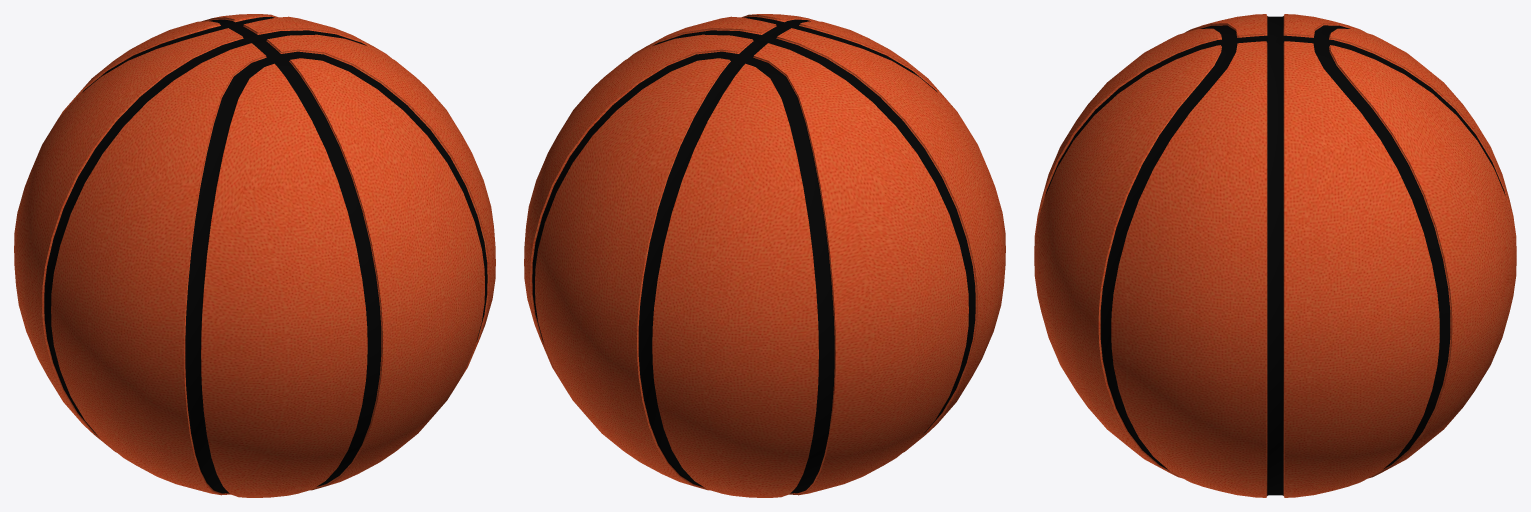
The model's file is basketball_ball.fbx.
3 views of the same model, side by side, from view 1: azimuth 30°, elevation 25°; view 2: azimuth 150°, elevation 25°; view 3: azimuth 270°, elevation 25° (orthographic).
Visible parts, largest first — view 1: Sphere; view 2: Sphere; view 3: Sphere.
Part boxes in pixels (left/top/right/bottom): Sphere: left=14, top=14, right=495, bottom=497; Sphere: left=524, top=14, right=1005, bottom=497; Sphere: left=1034, top=14, right=1516, bottom=497.
Bounding box in the file's own units: 50 × 50 × 50.
